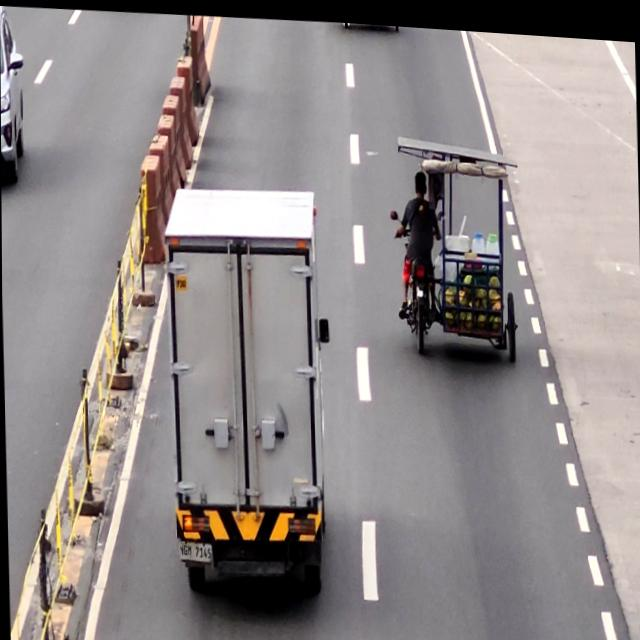License-Plate: (177, 537, 213, 562)
Tricycle: (388, 124, 519, 361)
Truck: (160, 175, 335, 604)
